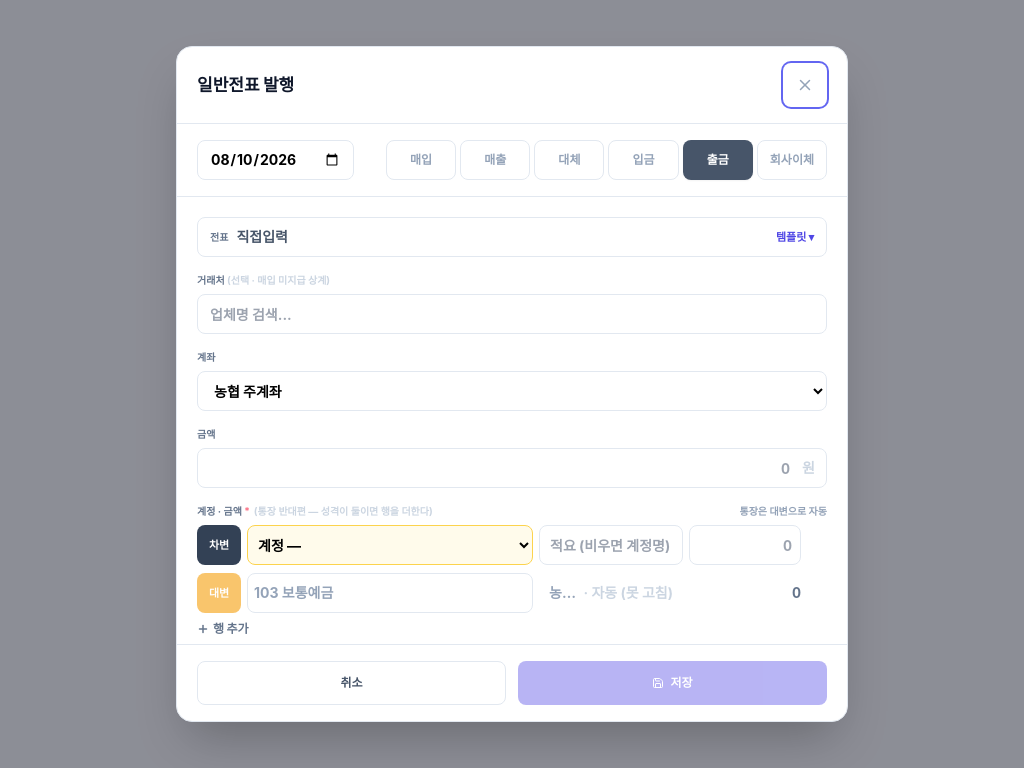
Test case: 회사 계정표에 없는 템플릿 › 사라지지 않고 원인을 알리며, 유효한 템플릿은 계속 고를 수 있다
Click the button "전표 직접입력 템플릿 ▾".
click(262, 237)  # box [197,217,827,257]
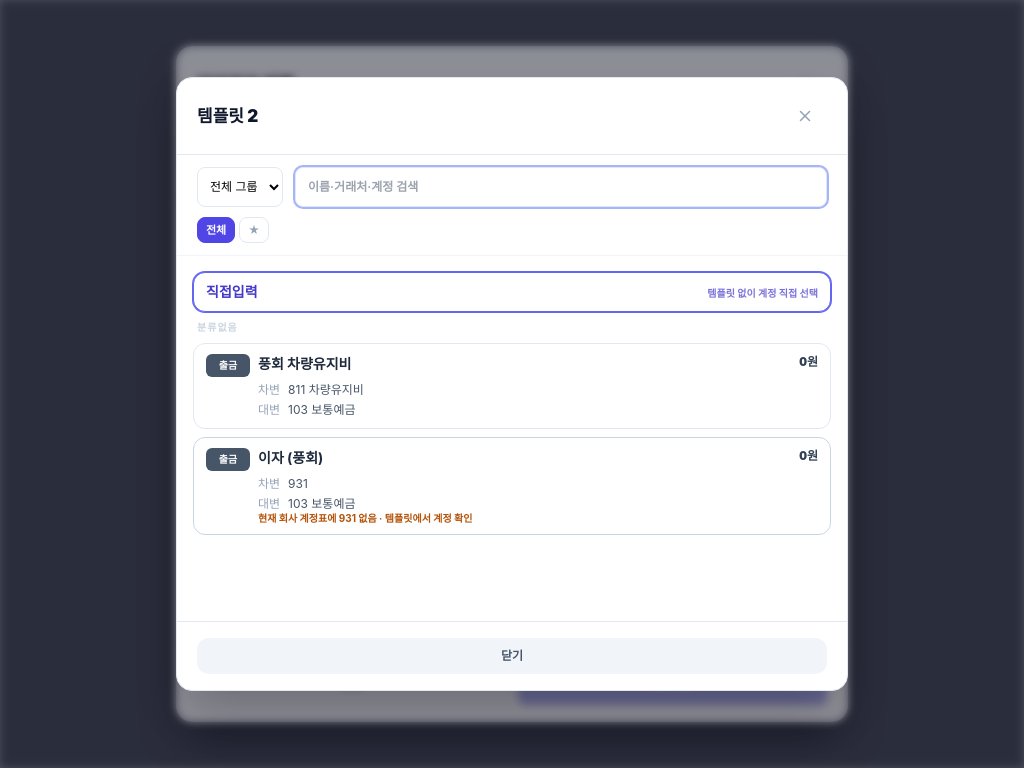
Expected: the button "이자 (풍회)" is disabled, [193,437,831,535]
Expected: the text "현재 회사 계정표에 931 없음 · 템플릿에서 계정 확인" is shown, [258,512,472,524]
Expected: the button "출금 풍회 차량유지비 차변 811 차량유지비 대변 103 보통예금 0원" is enabled
Click the button "출금 풍회 차량유지비 차변 811 차량유지비 대변 103 보통예금 0원".
click(228, 365)  # box [193,343,831,429]
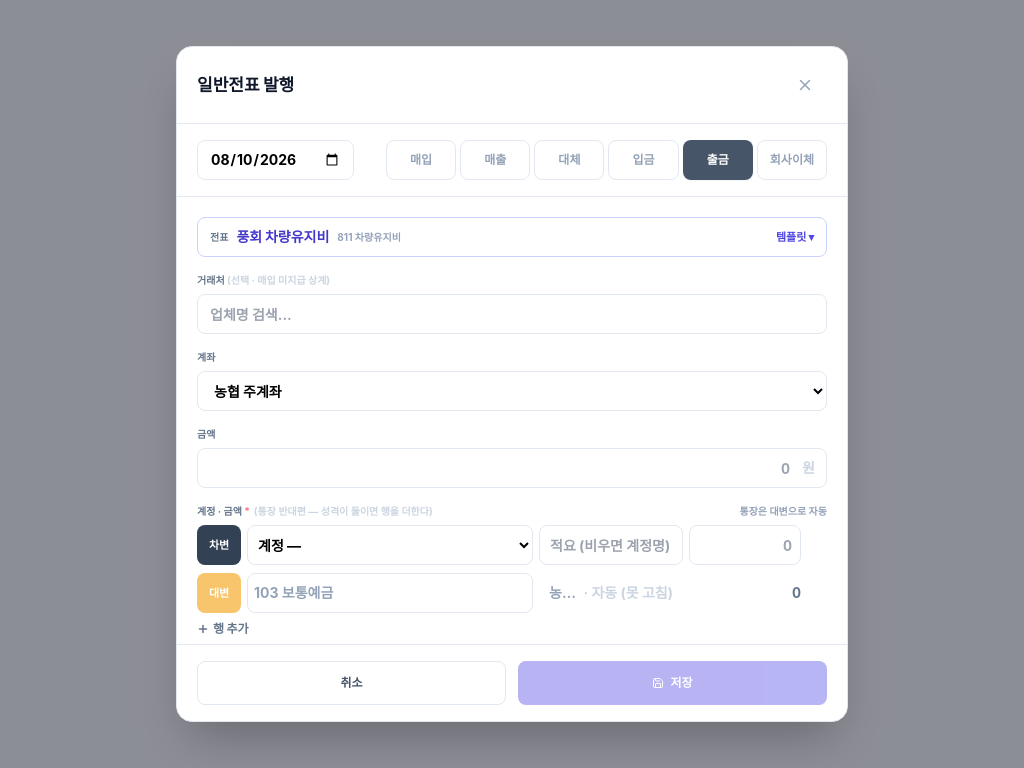
Expected: the button "현재 회사 계정표에 931 없음" is gone
